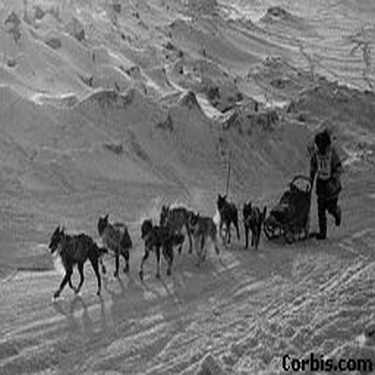dog: (29, 219, 108, 307), (77, 210, 132, 284), (130, 214, 182, 290), (191, 190, 245, 254), (143, 200, 202, 258), (225, 189, 272, 260), (179, 209, 220, 273)
